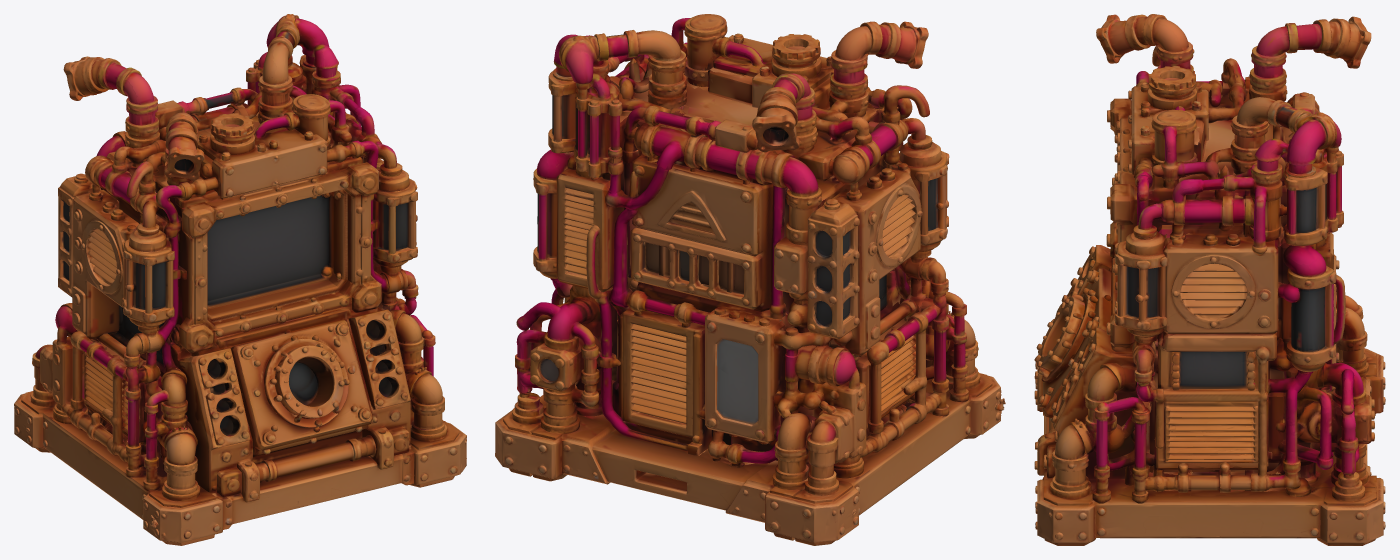
The picture shows the model from 3 angles, left to right: view 1: azimuth 30°, elevation 25°; view 2: azimuth 150°, elevation 25°; view 3: azimuth 270°, elevation 25°; orthographic projection. The views are drawn at different scales.
Visible parts, largest first — view 1: texture_pbr_v128; view 2: texture_pbr_v128; view 3: texture_pbr_v128.
Boxes of the visible parts, <box> form: texture_pbr_v128: <box>14,14,466,545</box>; texture_pbr_v128: <box>495,14,1005,545</box>; texture_pbr_v128: <box>1034,14,1385,545</box>.
Size of the model in its own units: 0.7104 by 0.8245 by 0.6388.
1 material, 1 textured.
